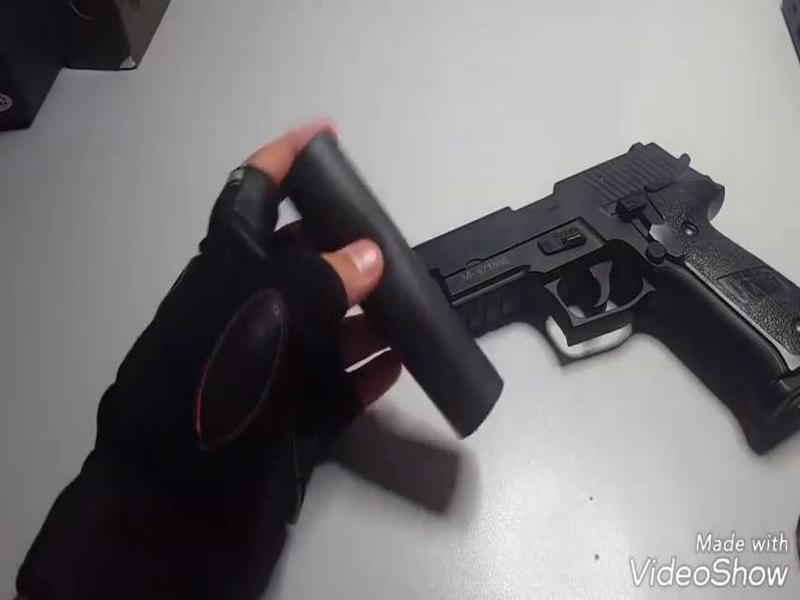Pistola: (401, 131, 800, 439)
